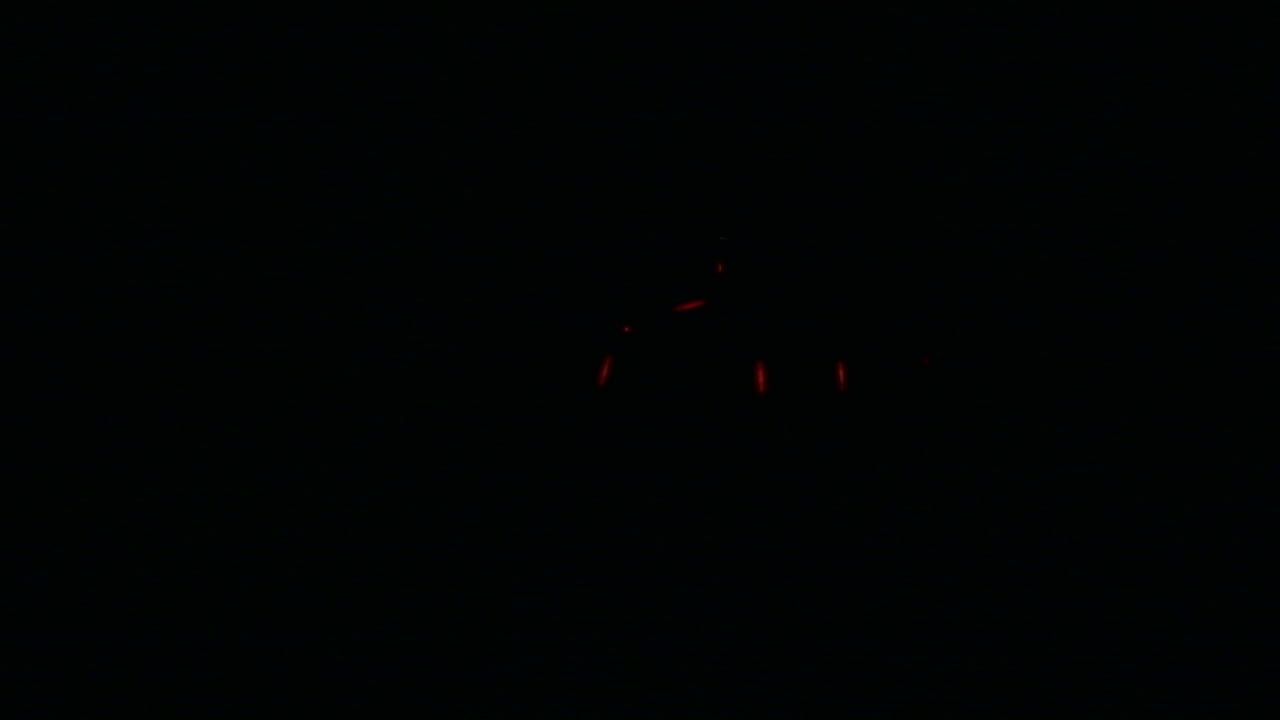lamp: (593, 351, 613, 395), (753, 359, 772, 392), (837, 360, 848, 391)
notpair1: (592, 352, 773, 396)
pair1: (752, 362, 848, 392)
